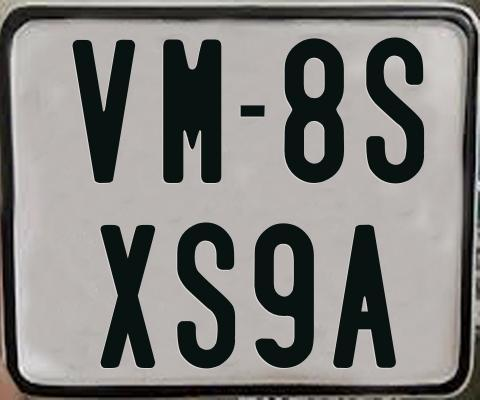8: (284, 37, 348, 187)
9: (251, 221, 314, 370)
A: (332, 222, 395, 366)
M: (163, 39, 221, 189)
S: (366, 35, 430, 184), (176, 220, 238, 371)
V: (71, 40, 136, 185)
X: (97, 225, 153, 369)
